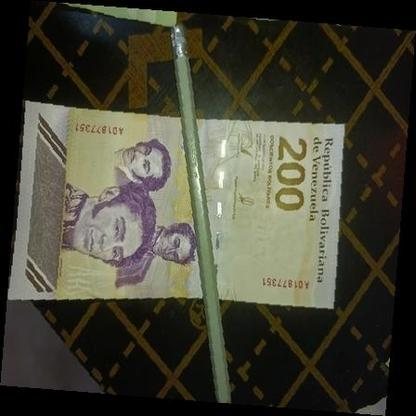two_hundred-front-vef: (7, 100, 345, 308)
